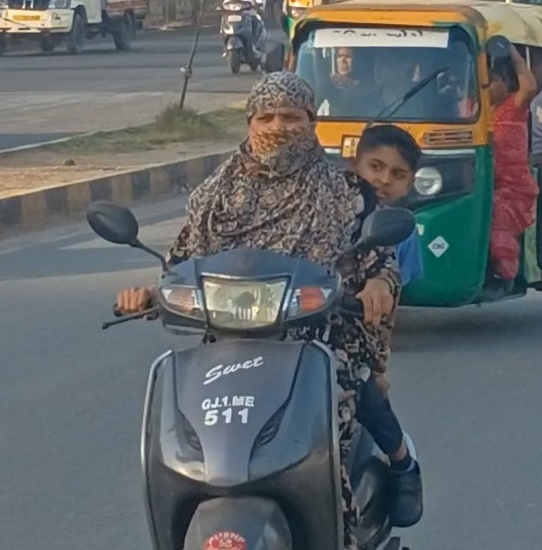BikeWithRider: (77, 66, 437, 550)
NoHelmet: (230, 67, 331, 178)
